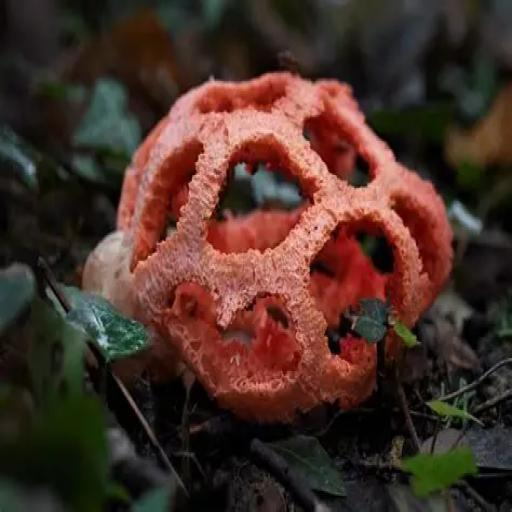mushroom: (83, 71, 453, 434)
